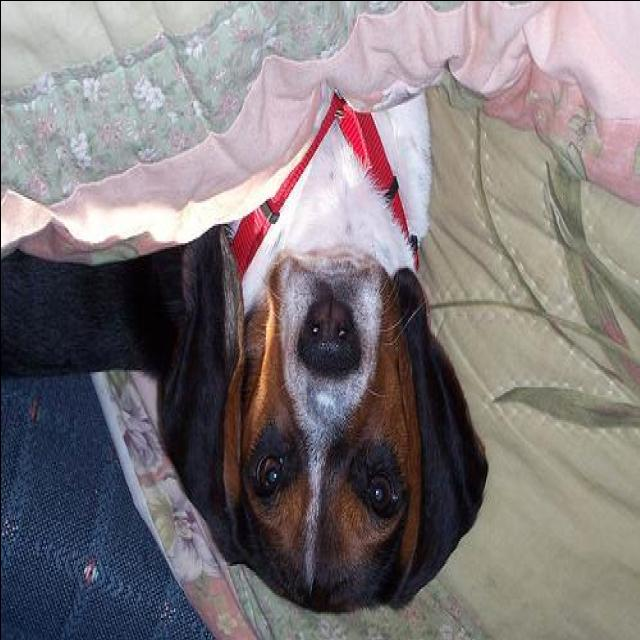beagle: (4, 83, 489, 609)
